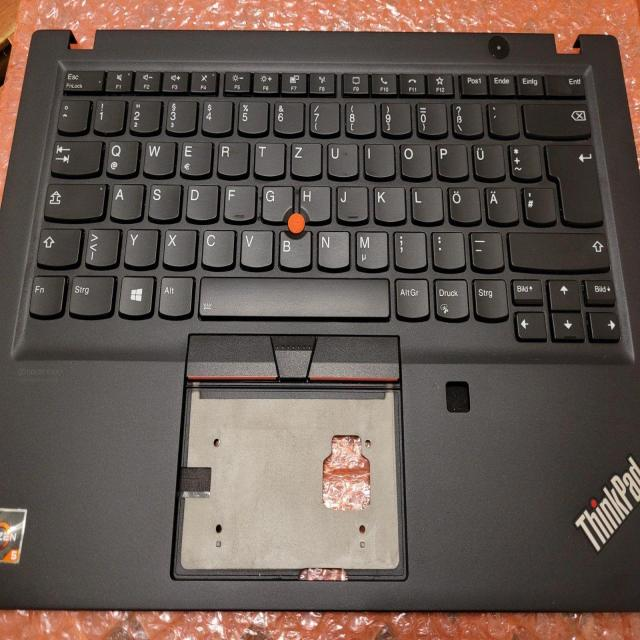0: (414, 100, 447, 135)
1: (92, 96, 124, 132)
2: (127, 97, 160, 132)
3: (164, 97, 197, 132)
4: (201, 97, 232, 133)
5: (236, 98, 268, 133)
6: (272, 99, 303, 133)
7: (308, 99, 339, 133)
8: (343, 100, 375, 134)
9: (378, 100, 411, 134)
a: (109, 180, 143, 219)
accent: (486, 100, 518, 136)
ae: (484, 185, 518, 224)
alt-left: (156, 273, 192, 316)
altgr-right: (393, 276, 428, 319)
b: (277, 228, 312, 268)
c: (200, 227, 235, 267)
caret: (56, 97, 89, 131)
comma: (392, 228, 426, 269)
d: (184, 181, 218, 221)
del: (521, 100, 591, 137)
e: (178, 138, 211, 176)
enter: (544, 140, 604, 224)
f: (222, 182, 255, 221)
g: (260, 183, 292, 222)
h: (297, 183, 330, 221)
hash: (521, 184, 555, 223)
i: (362, 141, 394, 177)
j: (335, 183, 368, 222)
k: (372, 184, 405, 222)
keyboard: (25, 60, 624, 354)
l: (410, 184, 443, 222)
less: (84, 225, 119, 266)
m: (353, 228, 388, 269)
minus: (467, 228, 503, 269)
n: (315, 228, 349, 268)
o: (398, 141, 431, 178)
oe: (447, 184, 481, 223)
p: (435, 141, 468, 178)
plus: (508, 141, 541, 179)
point: (430, 228, 465, 269)
q: (104, 138, 138, 175)
r: (216, 139, 249, 176)
s: (147, 181, 181, 220)
shift-left: (35, 225, 81, 266)
shift-lock: (41, 180, 106, 219)
shift-right: (506, 228, 610, 270)
space: (196, 274, 391, 319)
ss: (450, 100, 482, 135)
strg-left: (66, 272, 115, 316)
strg-right: (471, 276, 508, 318)
t: (252, 140, 285, 177)
tab: (49, 138, 101, 175)
u: (325, 140, 358, 178)
ue: (472, 141, 505, 179)
v: (238, 227, 273, 267)
w: (142, 138, 175, 175)
x: (161, 226, 196, 267)
y: (123, 226, 158, 266)
z: (289, 140, 322, 177)
